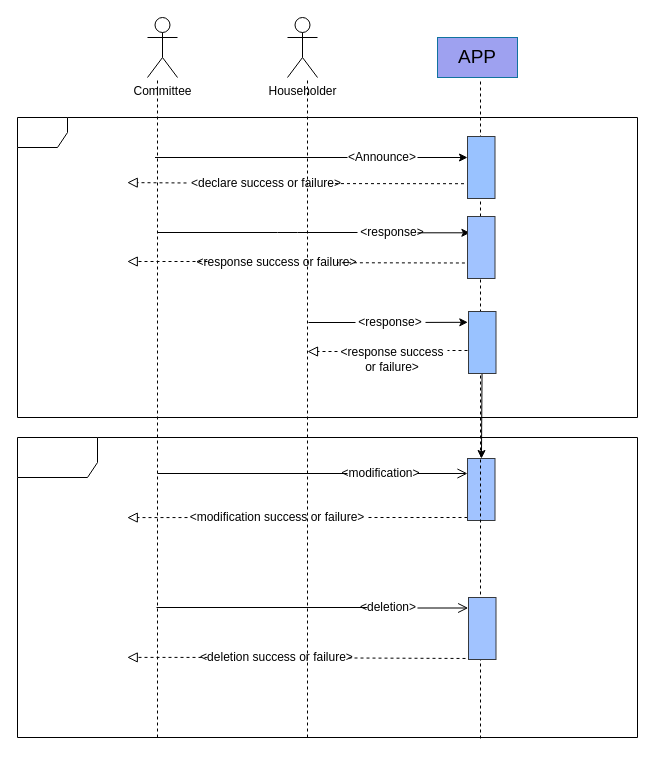
Some shapes in this 655 by 757 pixel diagram are drawn without their labels. Here are the shapes that lost their labels. From the top down, the box of each, then its label:
(16, 116, 638, 418): Add
(16, 436, 638, 738): Modification and deletion
